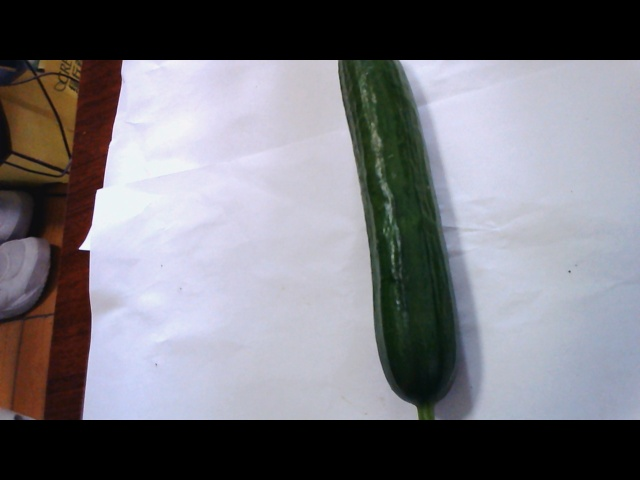cucumber: (331, 61, 469, 418)
